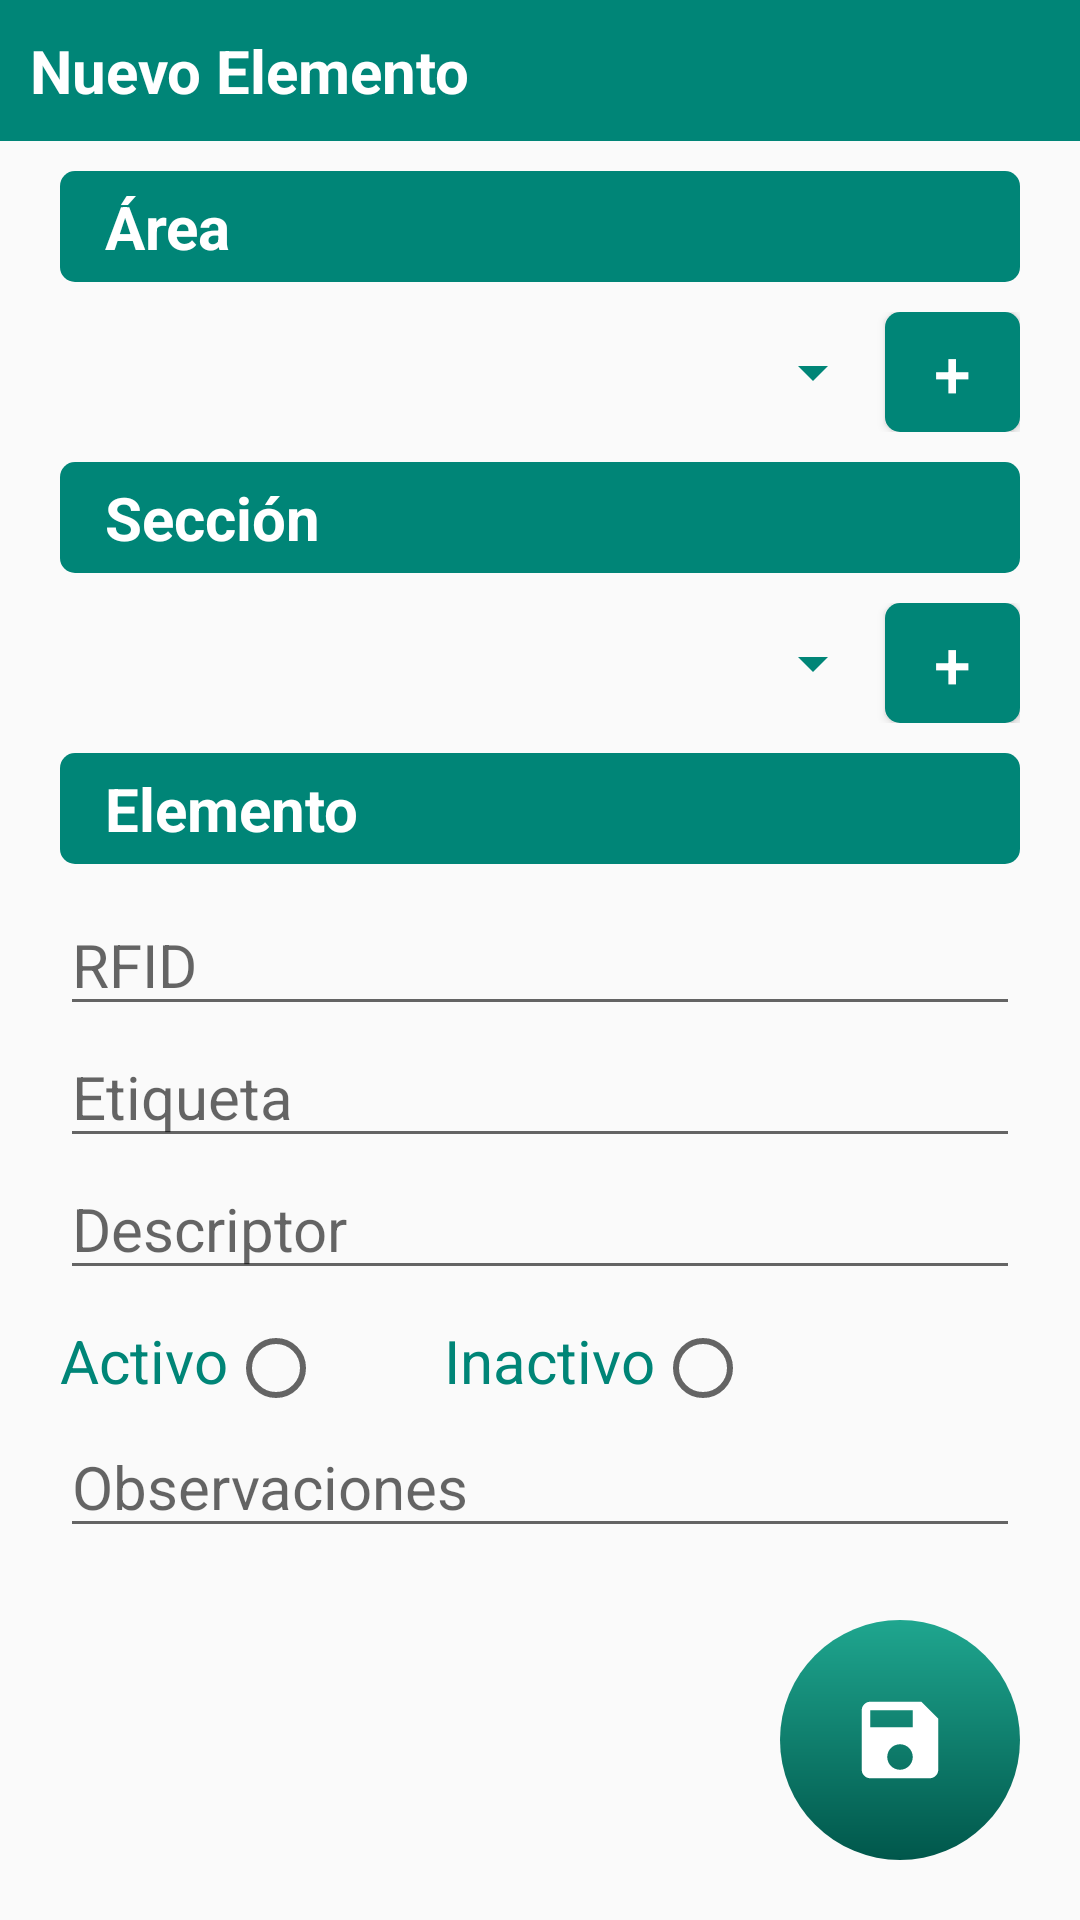

Icons on this 1080 x 1920 Android screen, each with the point to tap as (x=x, y=y):
save: (x=900, y=1740)
